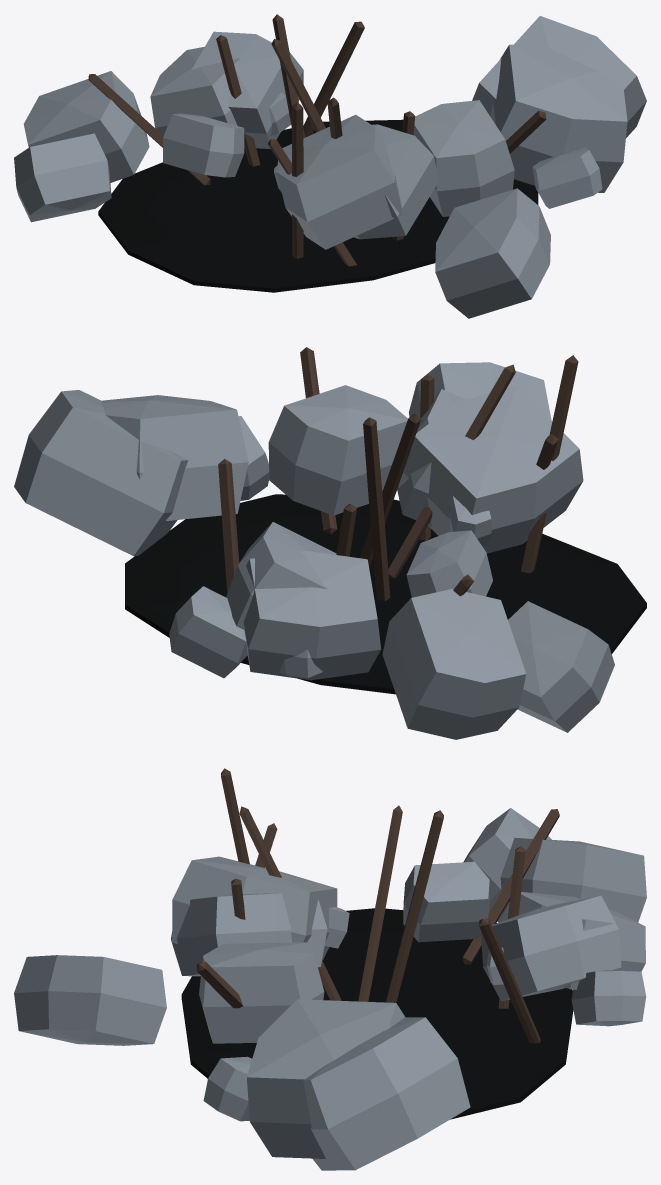
The model's file is r-hole.glb.
The picture shows the model from 3 angles, top to bottom: view 1: azimuth 30°, elevation 25°; view 2: azimuth 150°, elevation 25°; view 3: azimuth 270°, elevation 25°; orthographic projection. The views are drawn at different scales.
Visible parts, largest first — view 1: p; view 2: p; view 3: p.
Boxes of the visible parts, <box> form: p: <box>14,14,646,318</box>; p: <box>14,347,646,739</box>; p: <box>14,768,646,1170</box>.
Size of the model in its own units: 2.66 by 0.9387 by 2.38.
